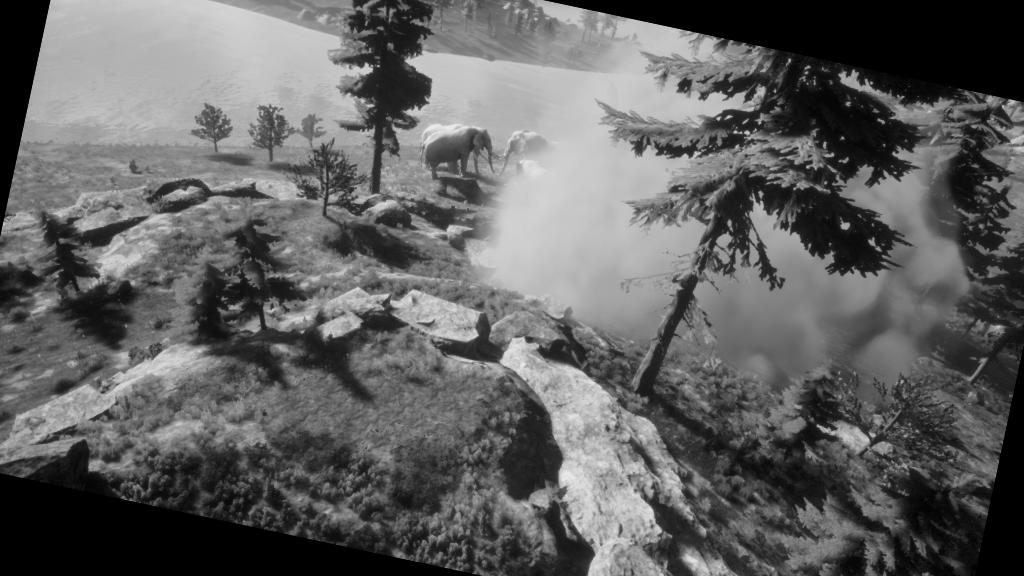Fire: (965, 302, 1020, 354)
elephant: (414, 114, 506, 192)
smoke: (468, 37, 986, 412)
